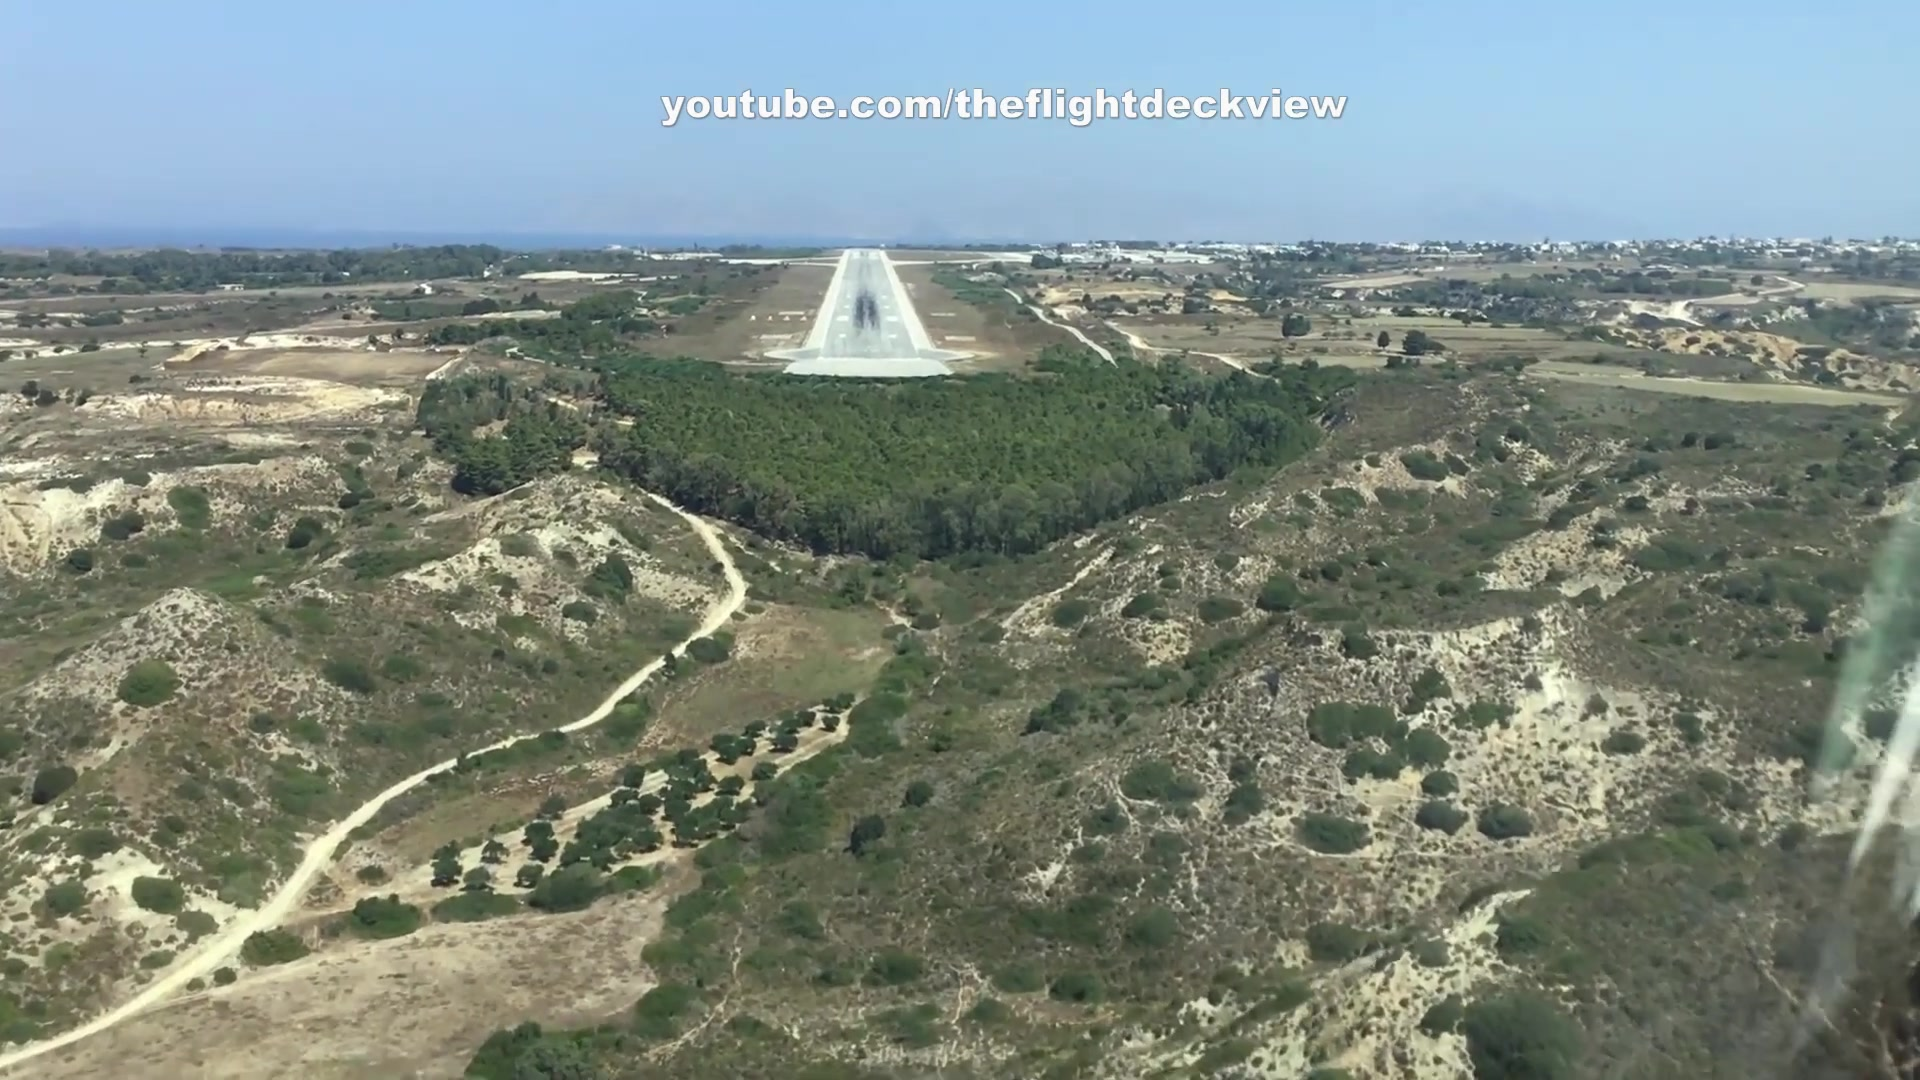runway: (808, 249, 928, 359)
